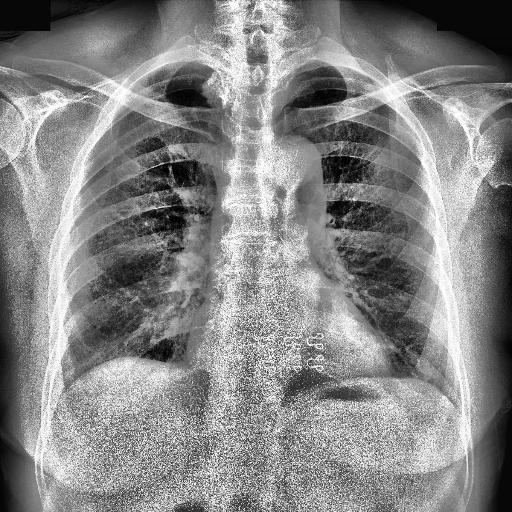0- Aortic enlargement: (262, 136, 326, 206), (264, 134, 326, 206), (268, 132, 320, 194)
7- Lung Opacity: (202, 71, 232, 105)
9- Other lesion: (202, 71, 232, 105)
